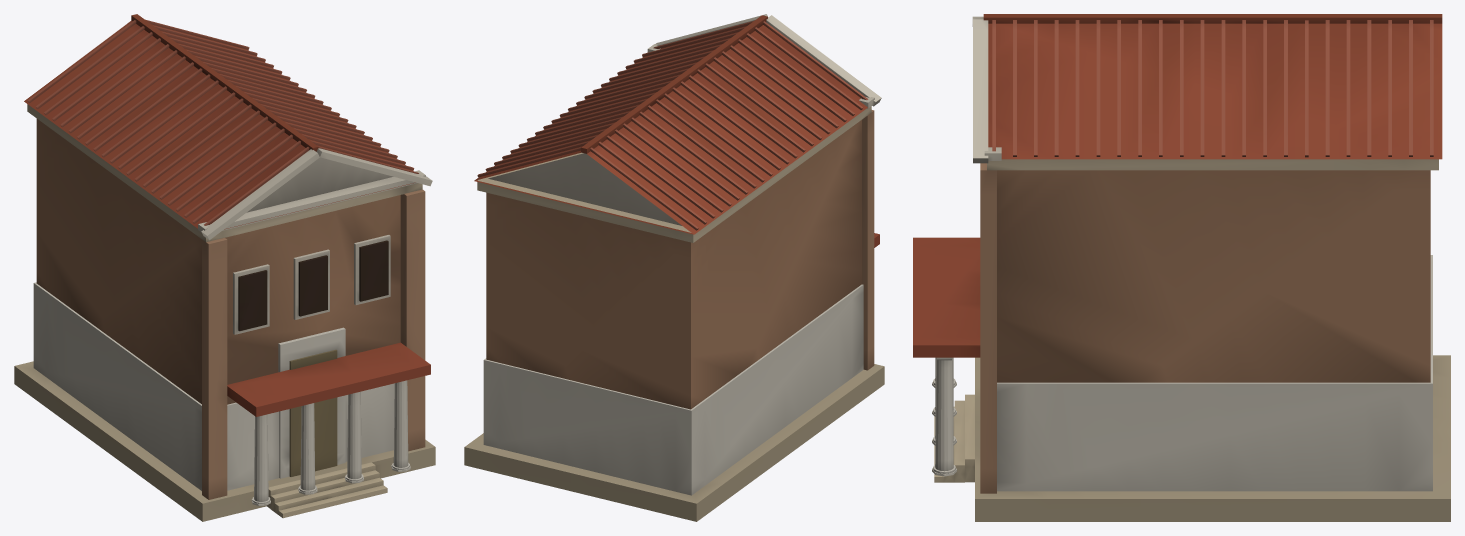
The model's file is curia-julia.glb.
3 views of the same model, side by side, from view 1: azimuth 30°, elevation 25°; view 2: azimuth 150°, elevation 25°; view 3: azimuth 270°, elevation 25° (orthographic). The views are drawn at different scales.
Visible parts, largest first — view 1: p1_porch, p2_roof, p0_podium; view 2: p1_porch, p2_roof, p0_podium; view 3: p1_porch, p2_roof, p0_podium.
Boxes of the visible parts, <box> form: p1_porch: <box>27,104,430,505</box>; p2_roof: <box>24,14,432,240</box>; p0_podium: <box>14,361,435,521</box>; p1_porch: <box>477,106,879,495</box>; p2_roof: <box>474,14,881,234</box>; p0_podium: <box>464,364,884,521</box>; p1_porch: <box>913,159,1438,493</box>; p2_roof: <box>972,14,1442,163</box>; p0_podium: <box>934,355,1450,521</box>.
Size of the model in its own units: 20 by 28.21 by 31.65.
